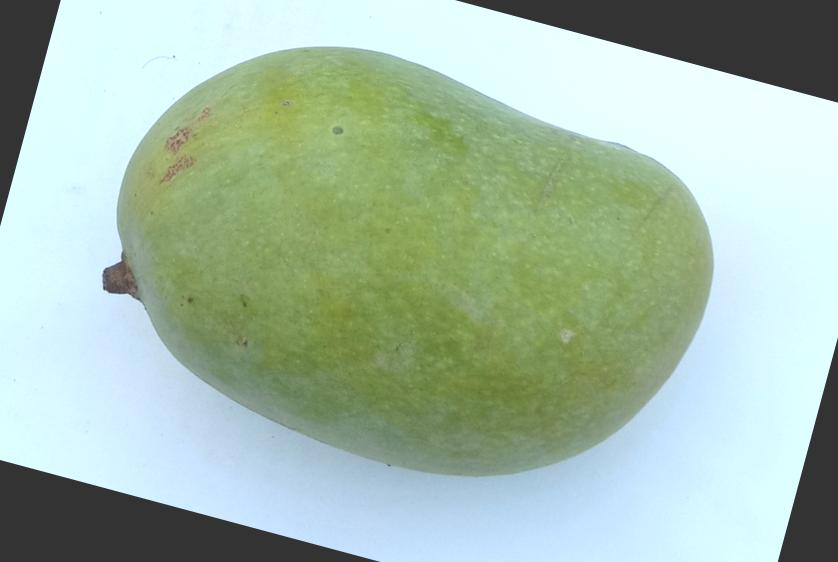Mango Unripe: (8, 0, 788, 562)
